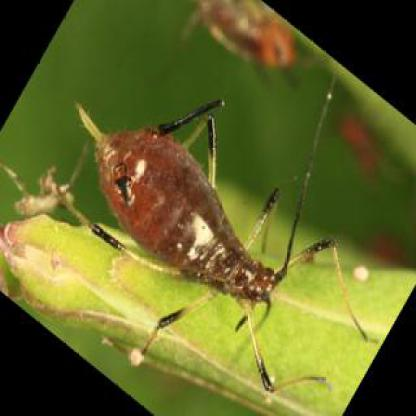uroleucon compositae: (79, 96, 336, 335)
